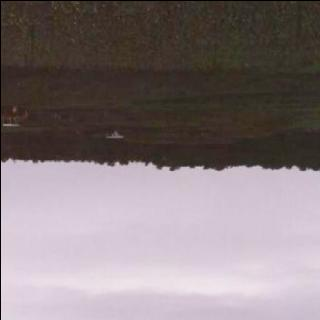Stratocumulus: (0, 161, 320, 320)
